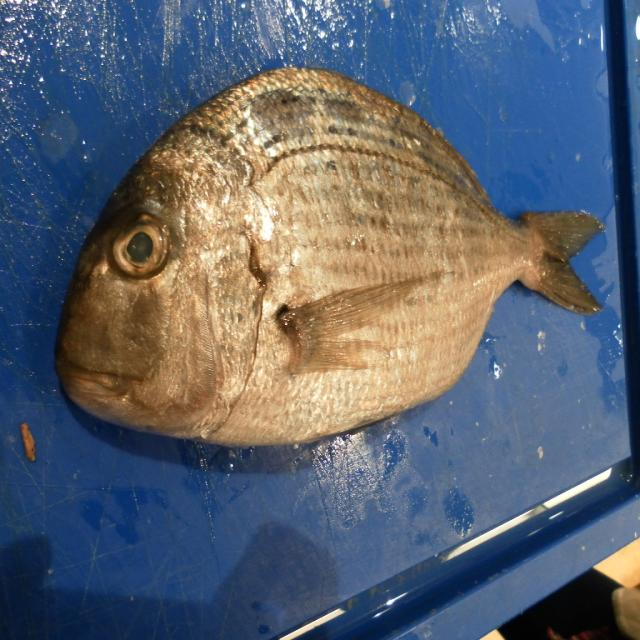Red-Sea-Bream-mercan-: (53, 66, 602, 453)
